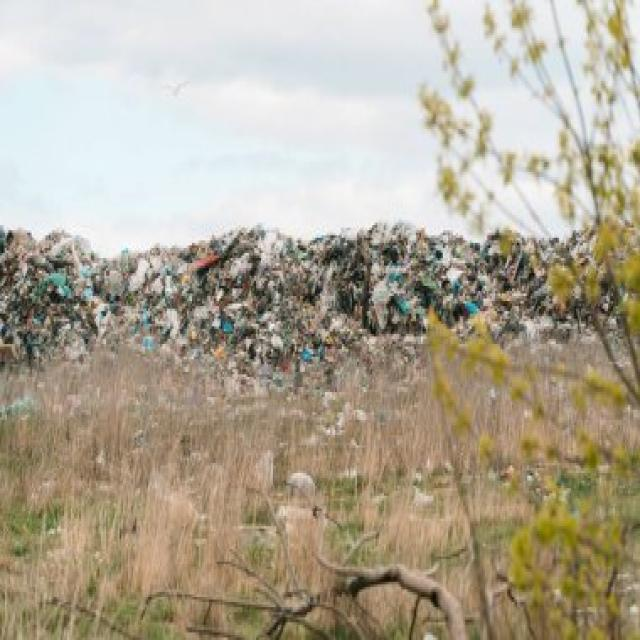garbage: (2, 212, 620, 379)
